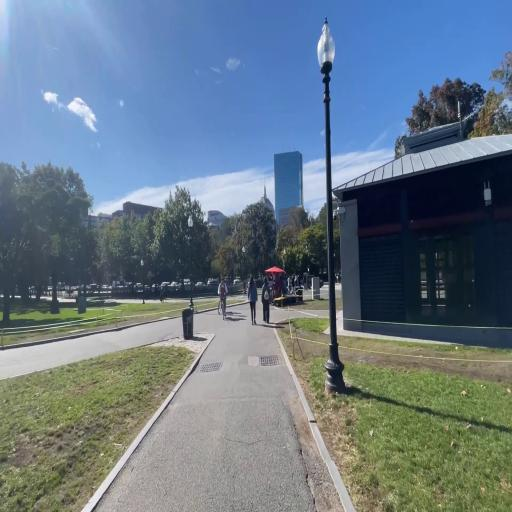Street_Light: (318, 11, 350, 401), (239, 242, 250, 302), (137, 250, 147, 303)
